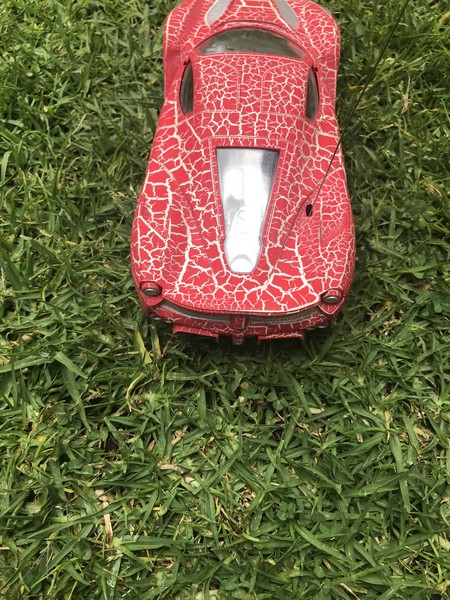RC: (127, 1, 360, 347)
